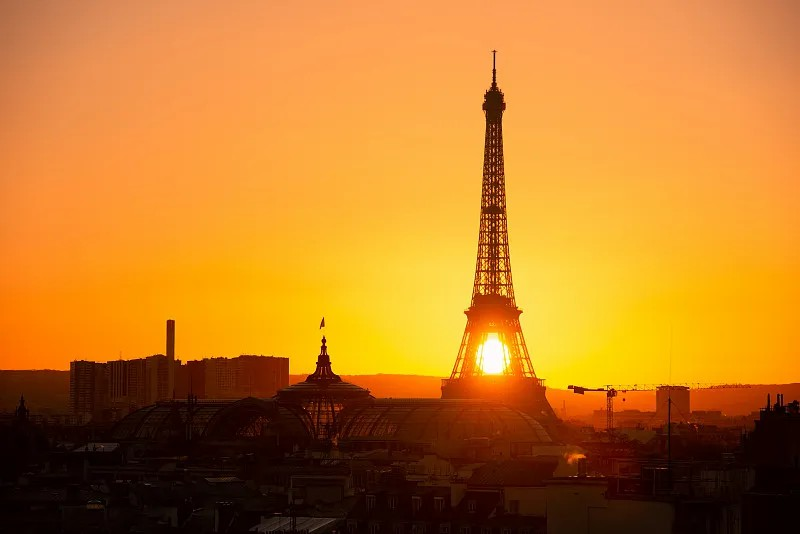Eiffel: (440, 52, 557, 419)
